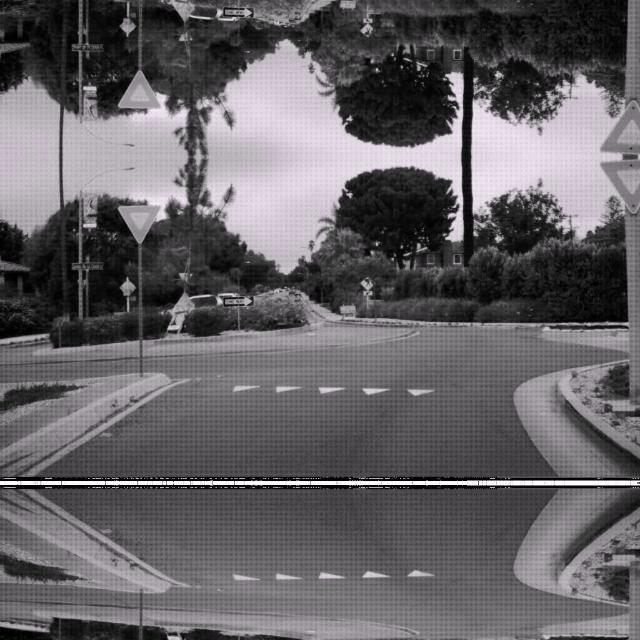yield: (569, 187, 621, 235), (569, 77, 621, 125), (118, 202, 160, 242), (118, 70, 160, 110)
